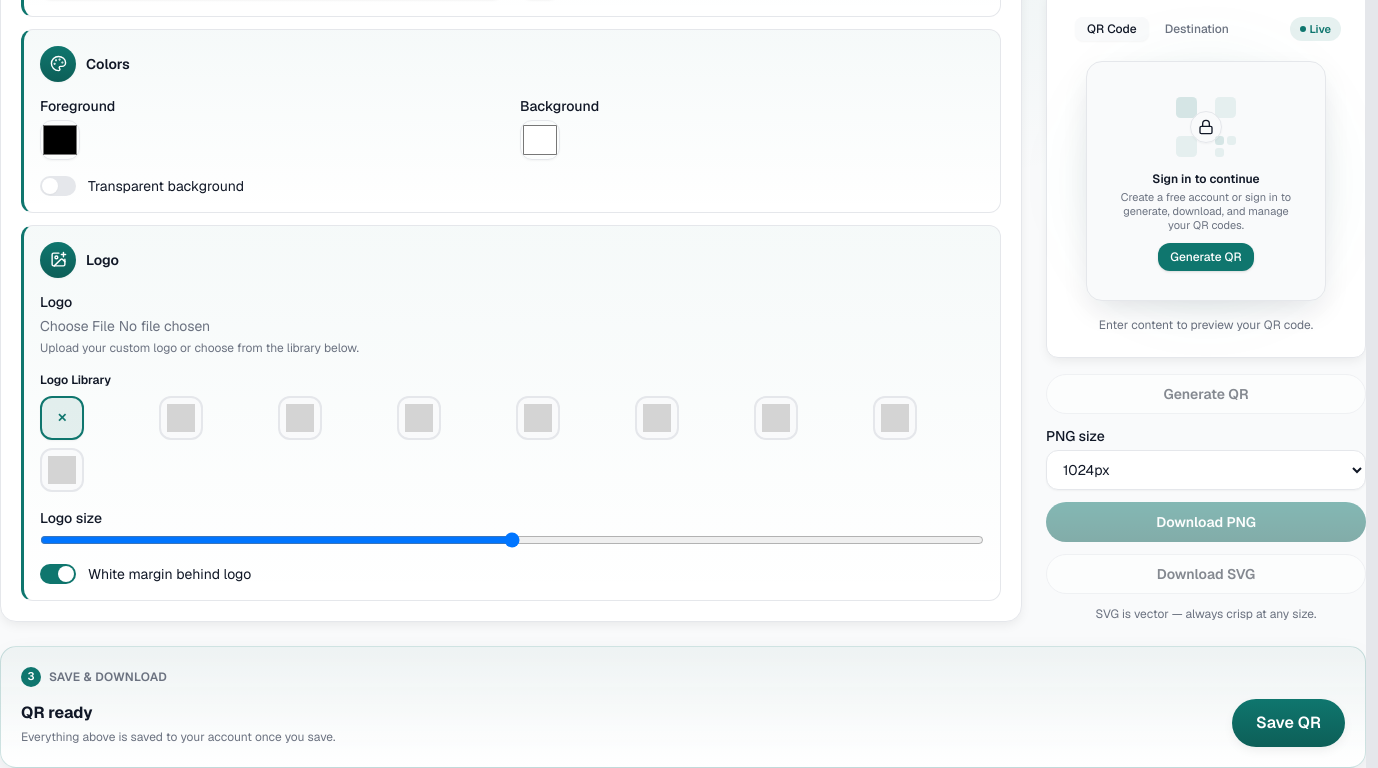
Test: QRGeneratorShell save flow (create) › disables Save QR while a save is in flight, preventing duplicate submissions
(page scrolled)
Click the button "Save QR" at (1288, 722), box [1232,698,1345,746]
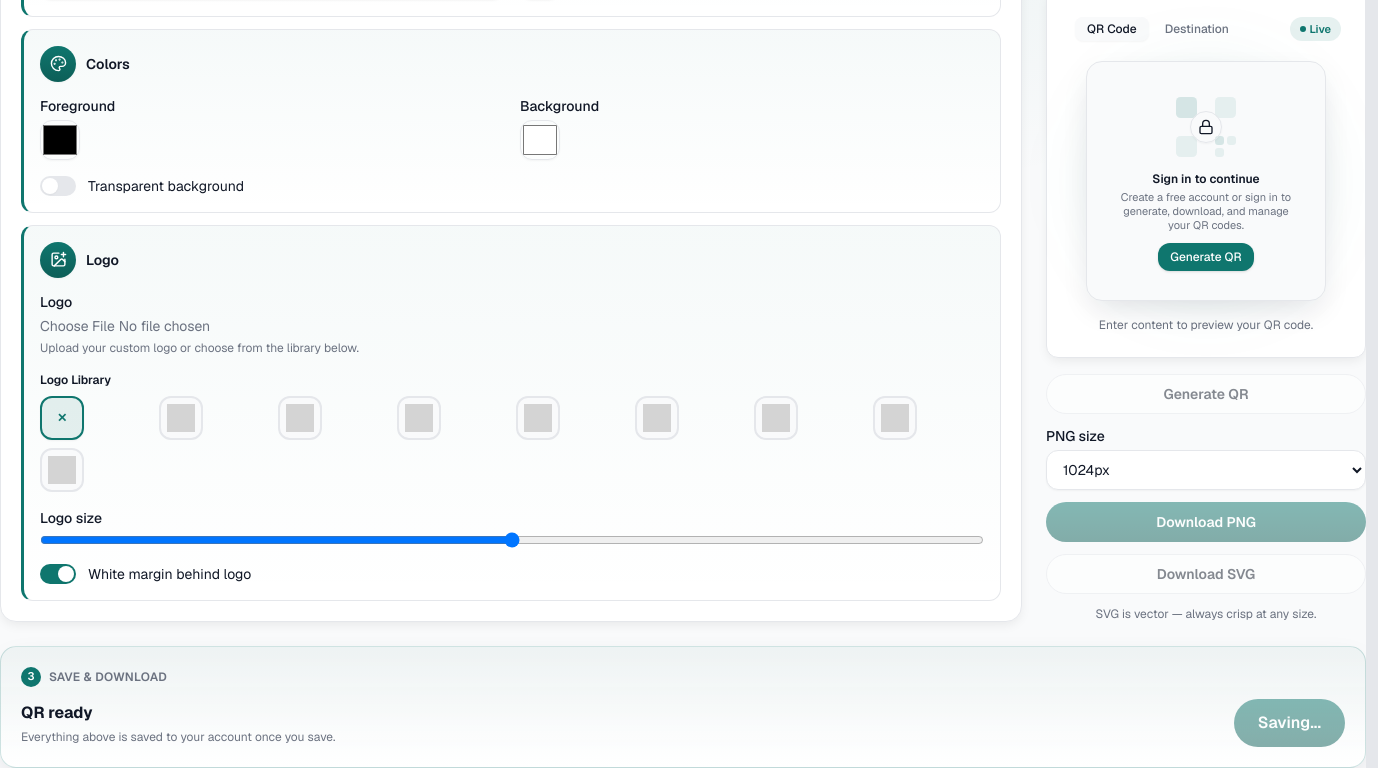
Check: the button "Saving..." is disabled, box [1234,698,1345,746]
